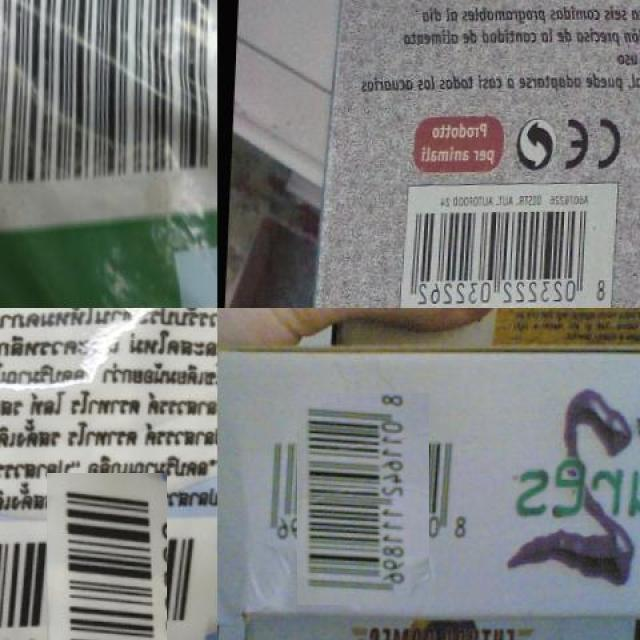Barcode: (0, 0, 217, 204), (276, 412, 449, 585), (399, 188, 612, 308), (23, 496, 190, 640)
